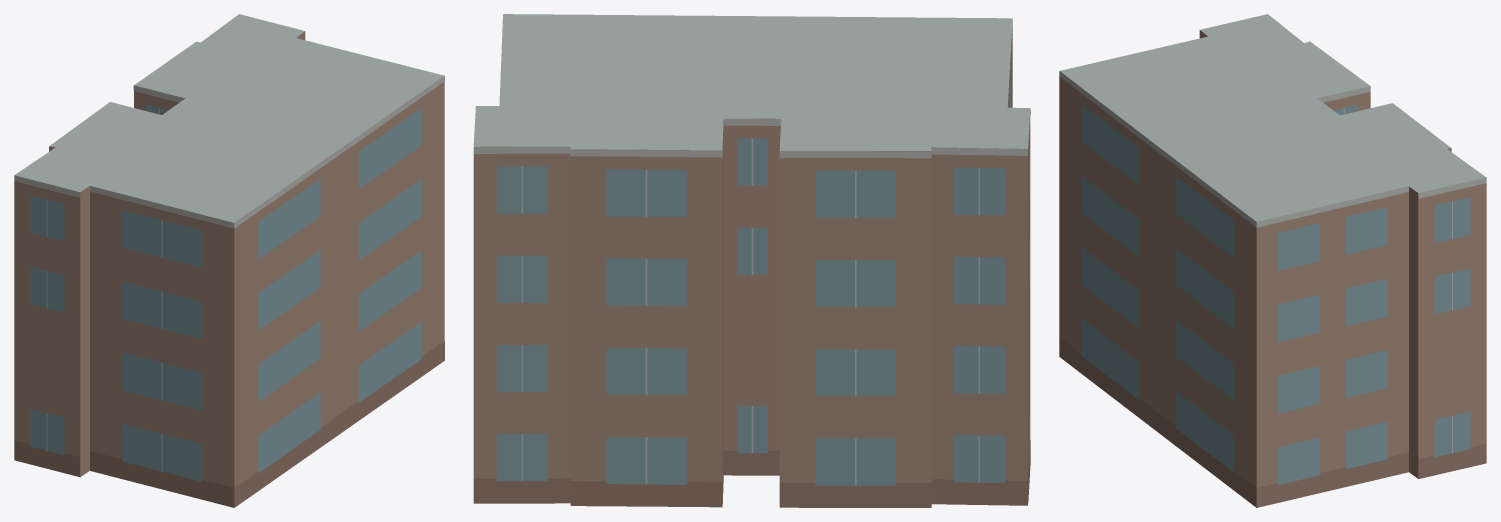
File: survey-upis-32719360.glb
The picture shows the model from 3 angles, left to right: view 1: azimuth 30°, elevation 25°; view 2: azimuth 150°, elevation 25°; view 3: azimuth 270°, elevation 25°; orthographic projection. The views are drawn at different scales.
Visible parts, largest first — view 1: survey-upis-32719360.tmp; view 2: survey-upis-32719360.tmp; view 3: survey-upis-32719360.tmp.
Boxes of the visible parts, box(x1,y1,x2,y2) form: survey-upis-32719360.tmp: box(14, 14, 444, 507); survey-upis-32719360.tmp: box(473, 14, 1030, 507); survey-upis-32719360.tmp: box(1059, 14, 1486, 507).
Bounding box in the file's own units: 19.2 × 12.3 × 16.66.
